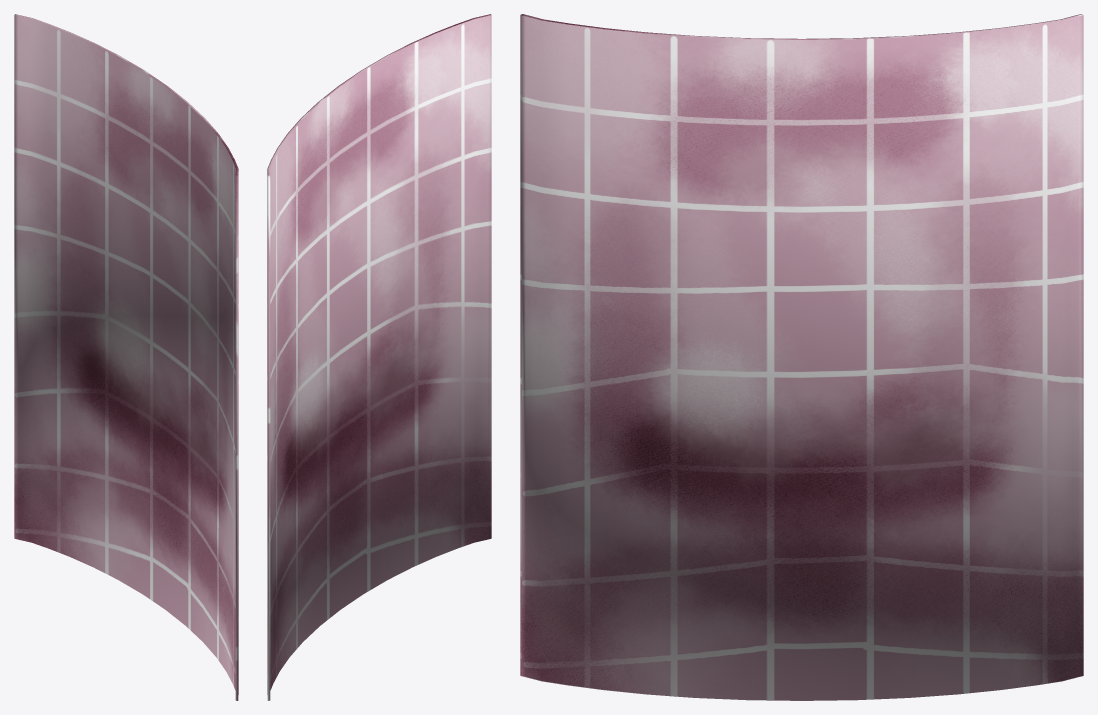
File: PaintingBack.fbx
3 renders of one model, left to right at view 1: azimuth 30°, elevation 25°; view 2: azimuth 150°, elevation 25°; view 3: azimuth 270°, elevation 25°, orthographic. The views are drawn at different scales.
Parts seen in each view (by area): view 1: Circle; view 2: Circle; view 3: Circle.
Part boxes in pixels (x1,y1,x2,y2): Circle: (14, 14, 238, 700); Circle: (267, 14, 491, 700); Circle: (520, 14, 1083, 700).
Size of the model in its own units: 22.08 by 261 by 202.
1 material, 1 textured.
